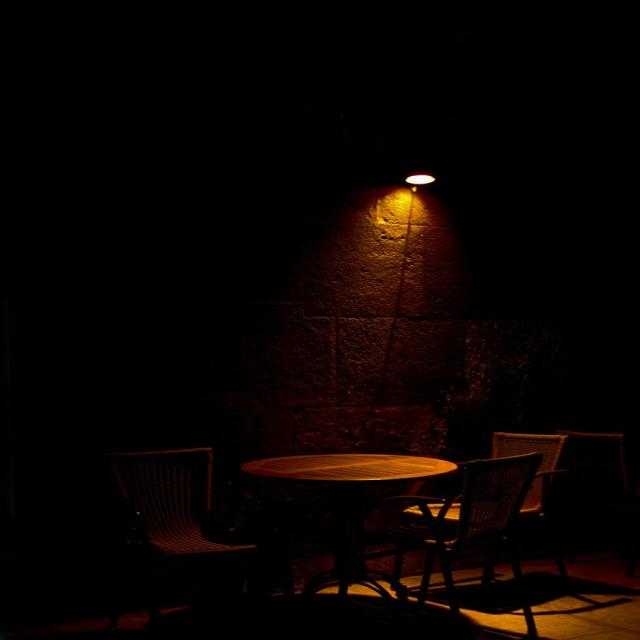Table: (242, 433, 457, 600)
chair: (89, 426, 287, 625), (481, 392, 640, 579), (442, 453, 556, 618)
